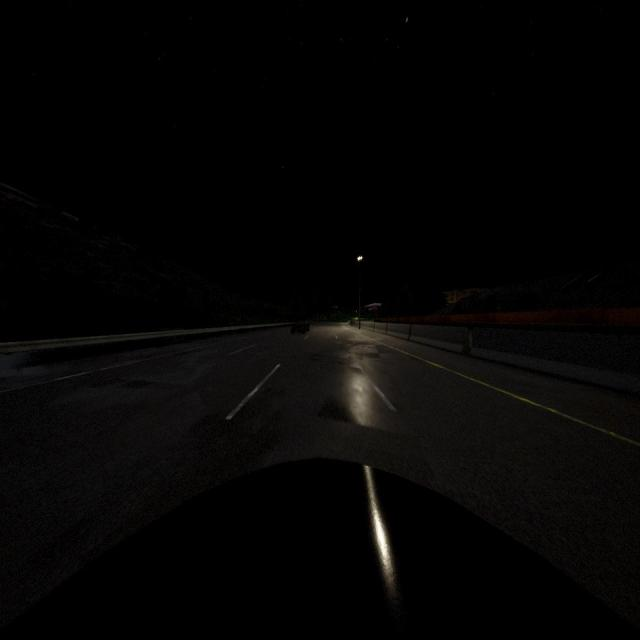Vehicle: (1, 459, 640, 638), (288, 319, 310, 334)
